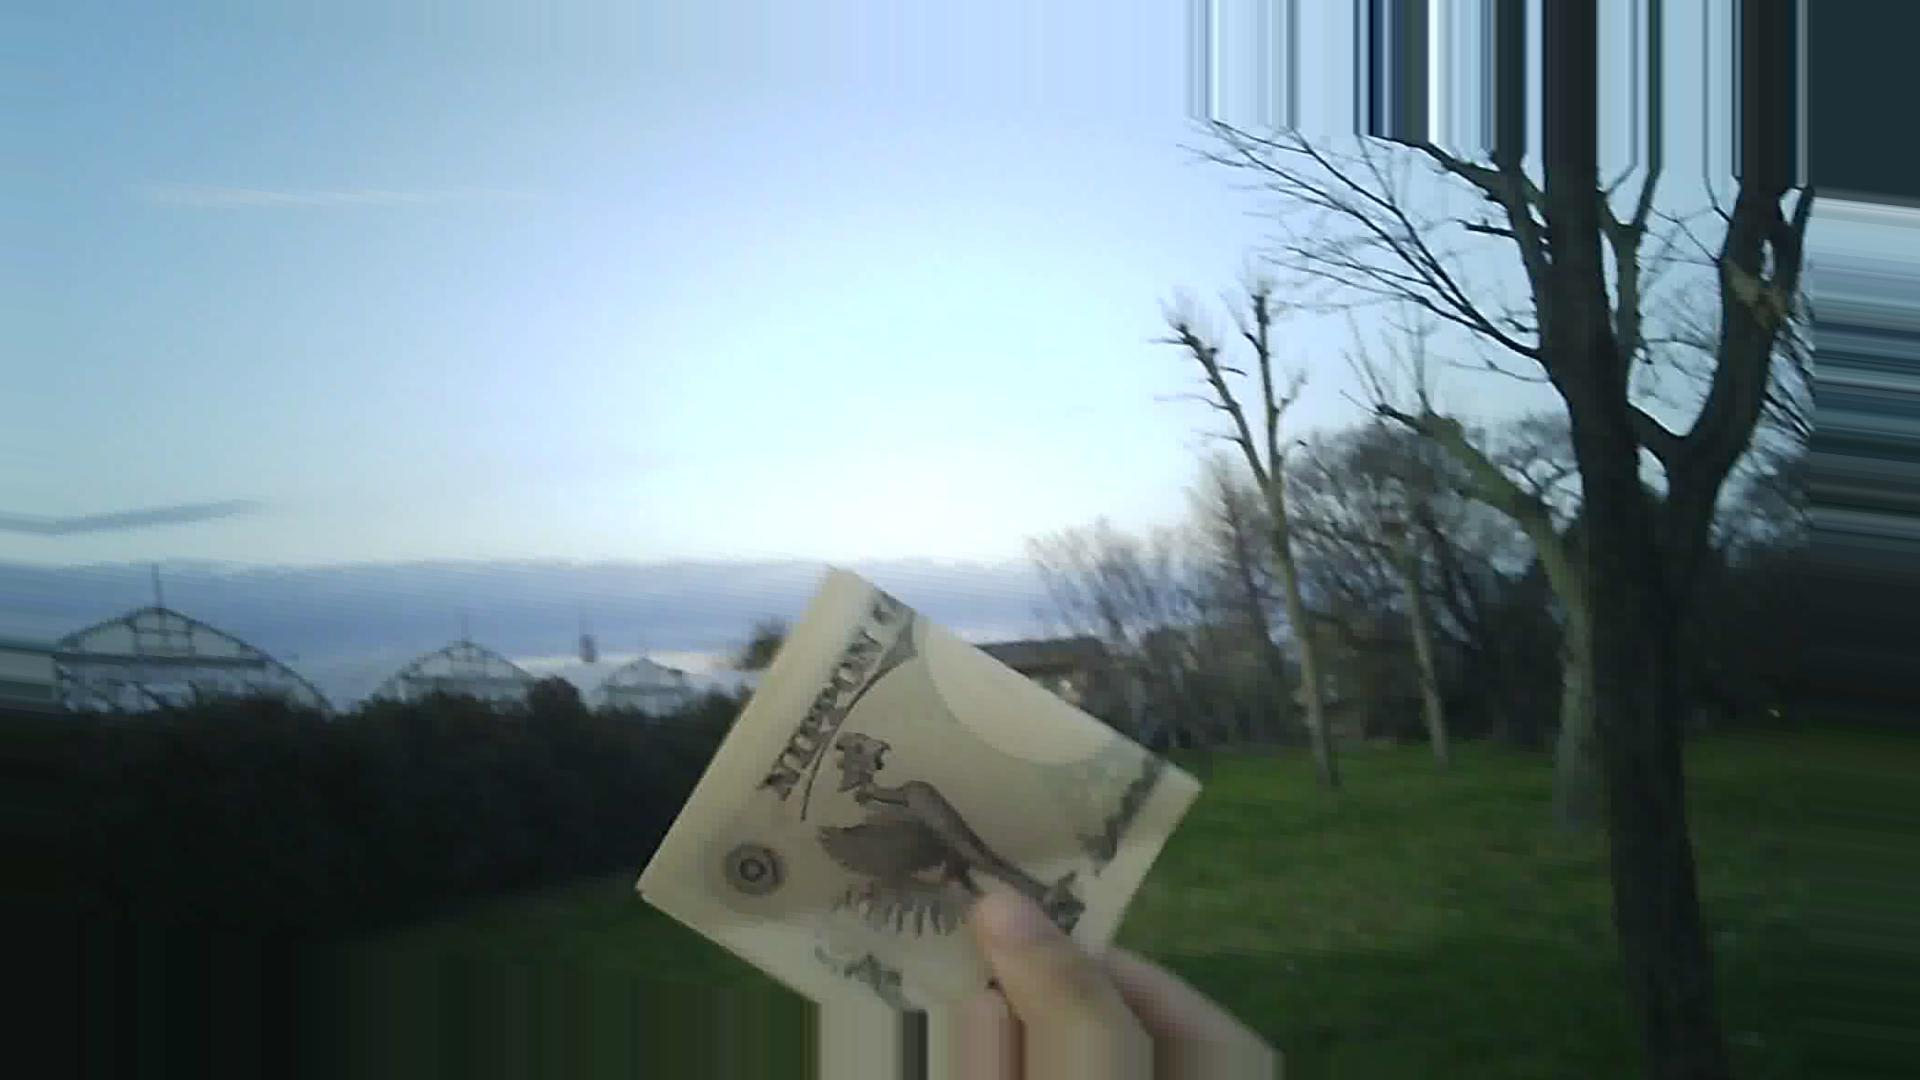10,000 Yen: (601, 564, 1217, 1043)
